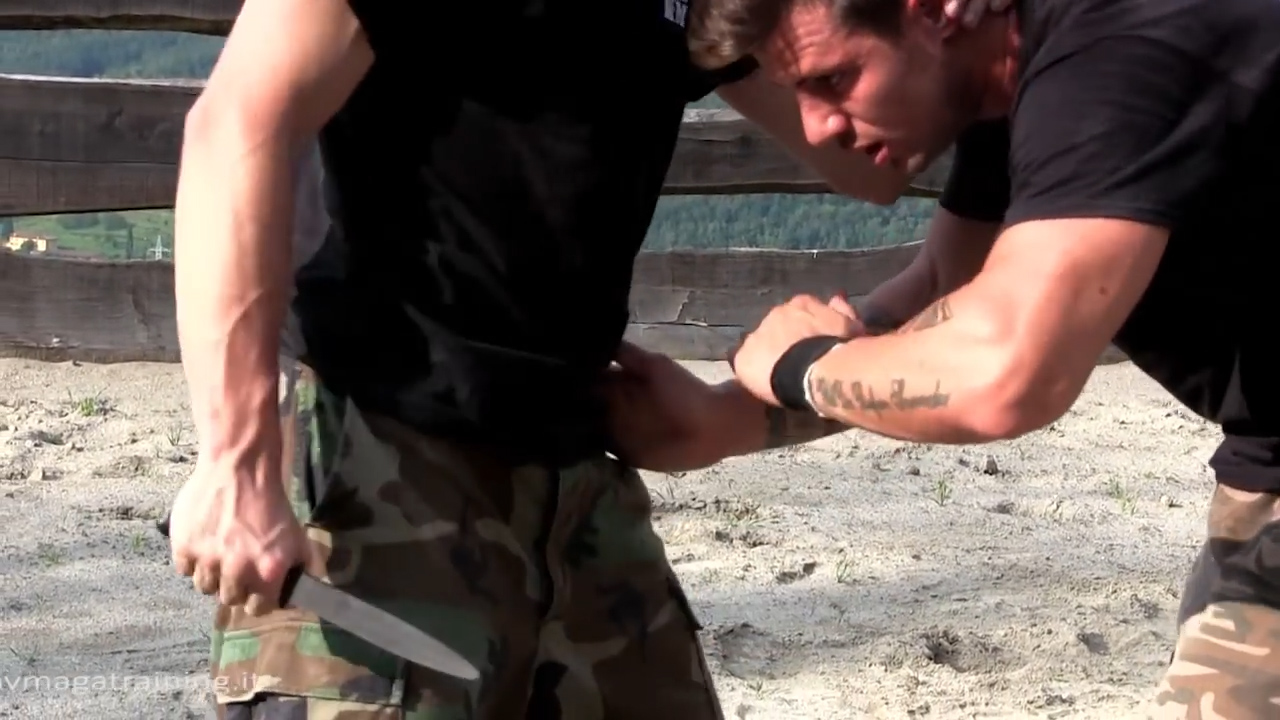knife: (149, 498, 487, 695)
